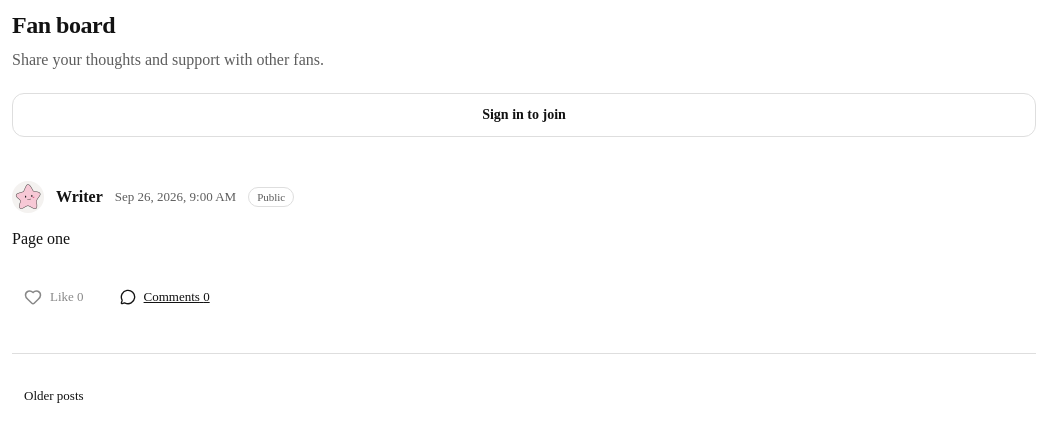
Scenario: fan post UI navigation and context › returns from the third feed page to the immediately newer page
What coordinates should you click on to do the following:
click the button "Older posts"
I would click on:
 (54, 396)
Its box is [12,374,96,418].
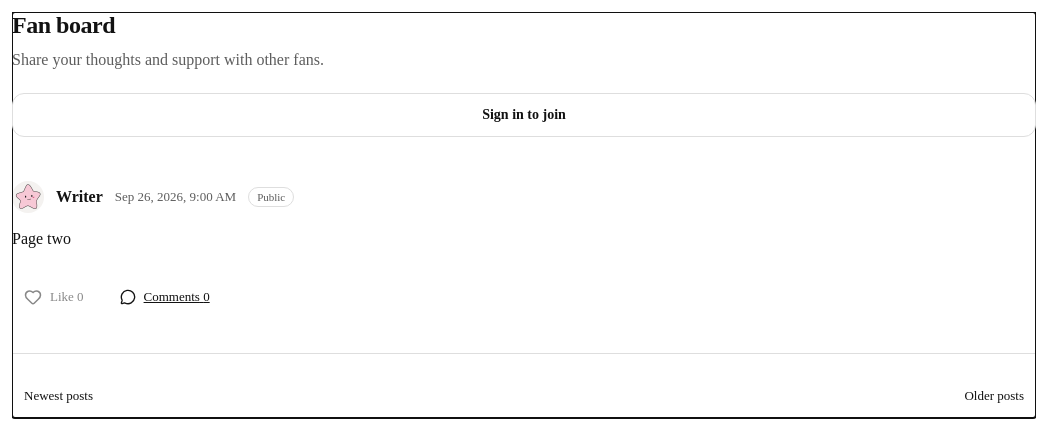
Expected: the text "Page two" is shown, [12,230,71,247]
What coordinates should you click on to do the following:
click the button "Older posts"
I would click on:
 (994, 396)
Its box is [952,374,1036,418].
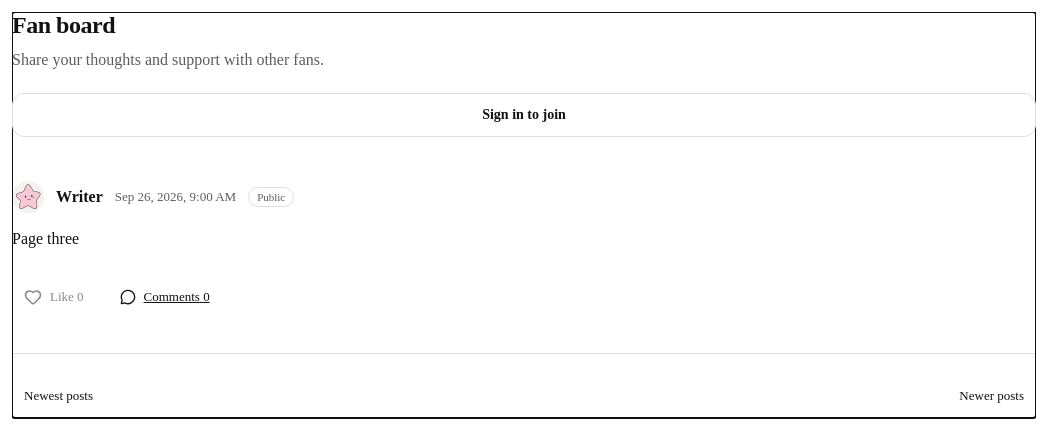
Expected: the text "Page three" is shown, [12,230,79,247]
What coordinates should you click on to do the following:
click the button "Newer posts"
I would click on:
 (992, 396)
Its box is [947,374,1036,418].
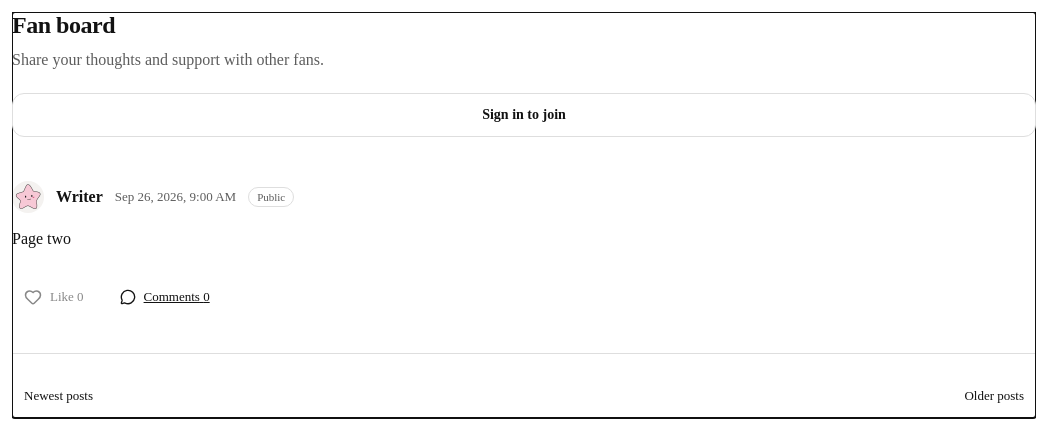
Expected: the text "Page two" is shown, [12,230,71,247]
